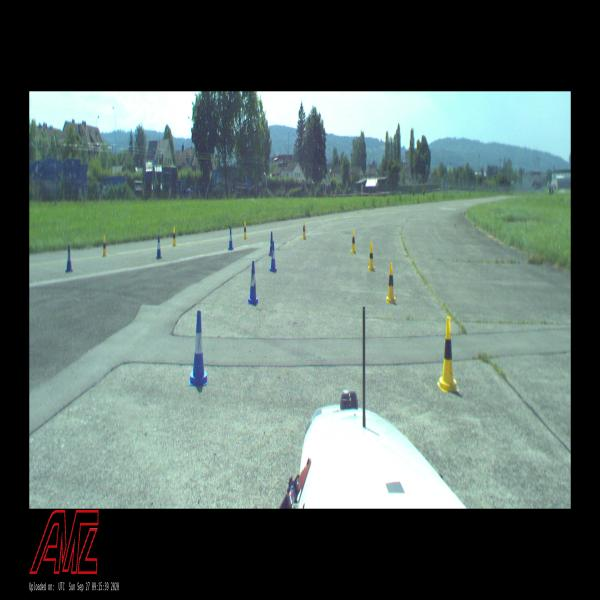blue_cone: (189, 311, 207, 386), (248, 261, 259, 306), (65, 244, 73, 272), (270, 241, 277, 273), (156, 236, 162, 259), (228, 228, 234, 250), (269, 231, 274, 256)
yellow_cone: (438, 316, 459, 393), (386, 263, 396, 304), (368, 242, 375, 272), (102, 235, 108, 256), (351, 230, 356, 254), (172, 227, 177, 246), (302, 220, 306, 240), (244, 221, 248, 239)
